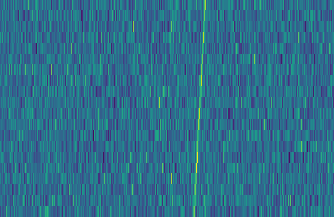signal: (189, 0, 210, 217)
